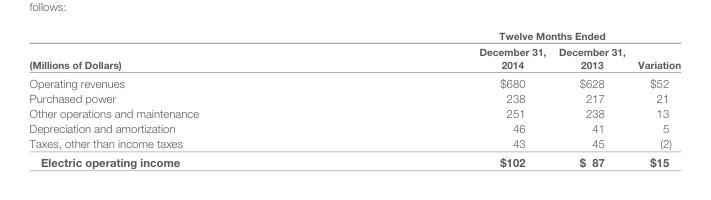table: (28, 28, 680, 168)
table column: (28, 28, 338, 168), (338, 28, 551, 168), (551, 28, 631, 168), (631, 28, 680, 168)
table column header: (28, 28, 680, 72)
table row: (28, 43, 680, 72), (28, 72, 680, 90), (28, 135, 680, 152), (28, 152, 680, 168), (28, 28, 680, 43), (28, 90, 680, 105), (28, 105, 680, 120), (28, 120, 680, 135)
table spanning cell: (28, 28, 338, 72), (338, 28, 631, 43), (631, 28, 680, 72)
